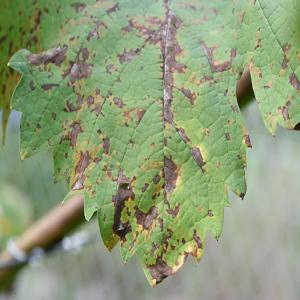Folha: (2, 0, 300, 288)
Fungo: (4, 1, 51, 91), (136, 194, 179, 276), (155, 8, 179, 145), (59, 133, 92, 202), (125, 13, 162, 55), (200, 42, 238, 80), (176, 126, 206, 173), (111, 167, 133, 231), (174, 60, 202, 109), (75, 10, 112, 44), (125, 156, 162, 190), (104, 95, 145, 125), (34, 41, 76, 68), (118, 32, 145, 68), (68, 57, 100, 87), (250, 59, 272, 102), (61, 91, 86, 125), (270, 97, 290, 135), (195, 8, 230, 28), (163, 154, 178, 196), (157, 0, 191, 14), (190, 145, 206, 173), (101, 133, 112, 163), (278, 43, 290, 68), (175, 126, 191, 144), (290, 69, 300, 96), (232, 12, 246, 27), (60, 2, 94, 8), (193, 228, 202, 248), (250, 27, 260, 43), (244, 134, 251, 148), (230, 103, 238, 112), (225, 132, 230, 140)
